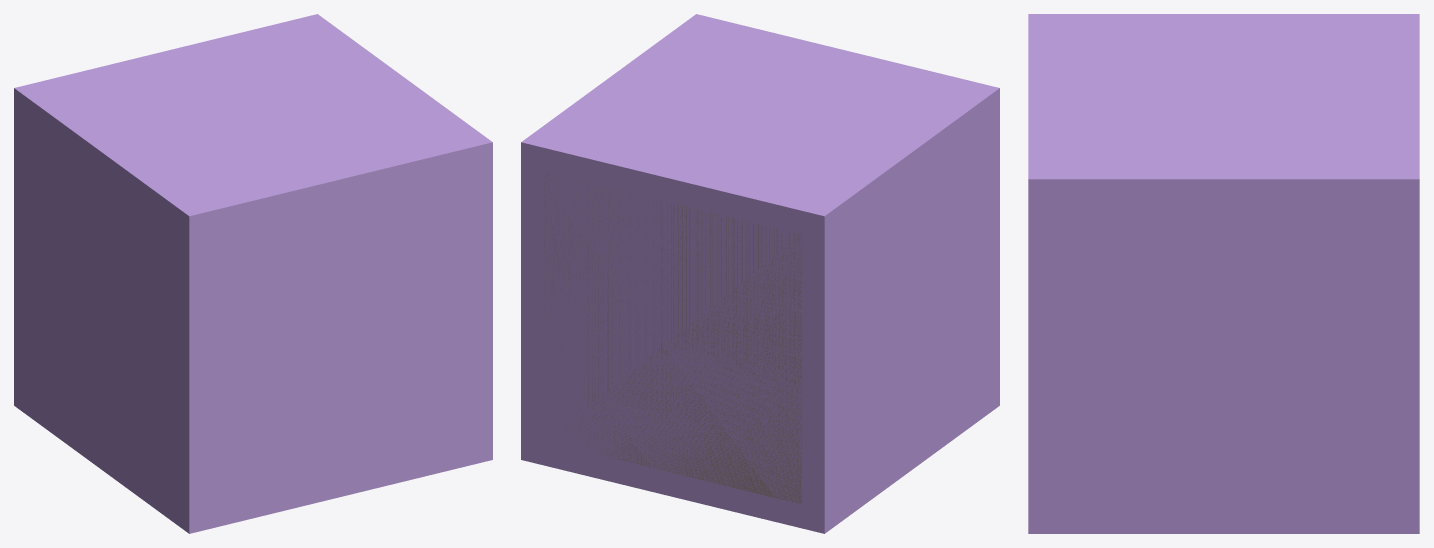
The model's file is 66_duskthistle.glb.
3 renders of one model, left to right at view 1: azimuth 30°, elevation 25°; view 2: azimuth 150°, elevation 25°; view 3: azimuth 270°, elevation 25°, orthographic. The views are drawn at different scales.
Visible parts, largest first — view 1: Core; view 2: Core, Soil; view 3: Core.
Part boxes in pixels (<box>): Core: <box>14,14,492,533</box>; Core: <box>521,14,999,533</box>; Soil: <box>544,173,801,503</box>; Core: <box>1028,14,1419,533</box>.
Bounding box in the file's own units: 1 × 1 × 1.
